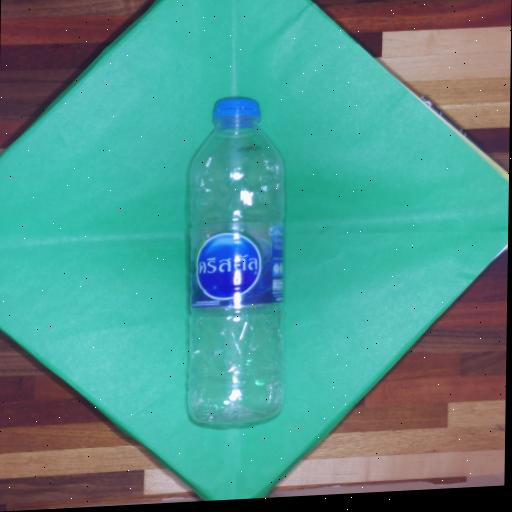bottle: (174, 79, 300, 440)
